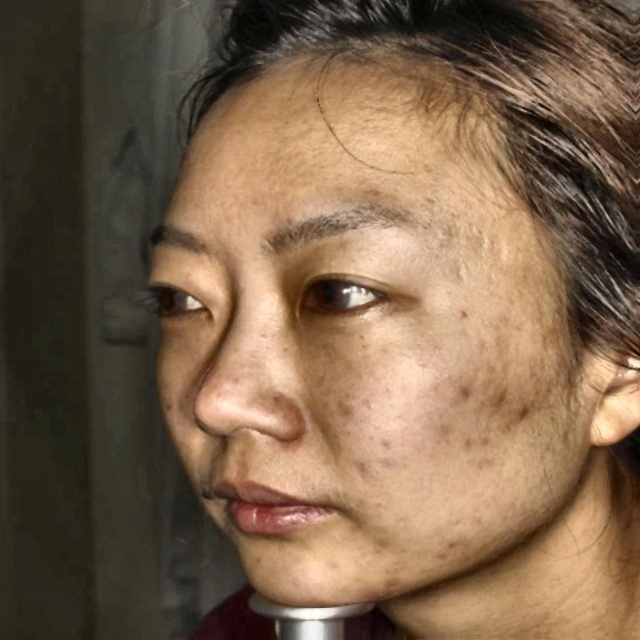comedone: (364, 569, 403, 602), (503, 403, 536, 425), (449, 381, 472, 406), (487, 383, 508, 402)
